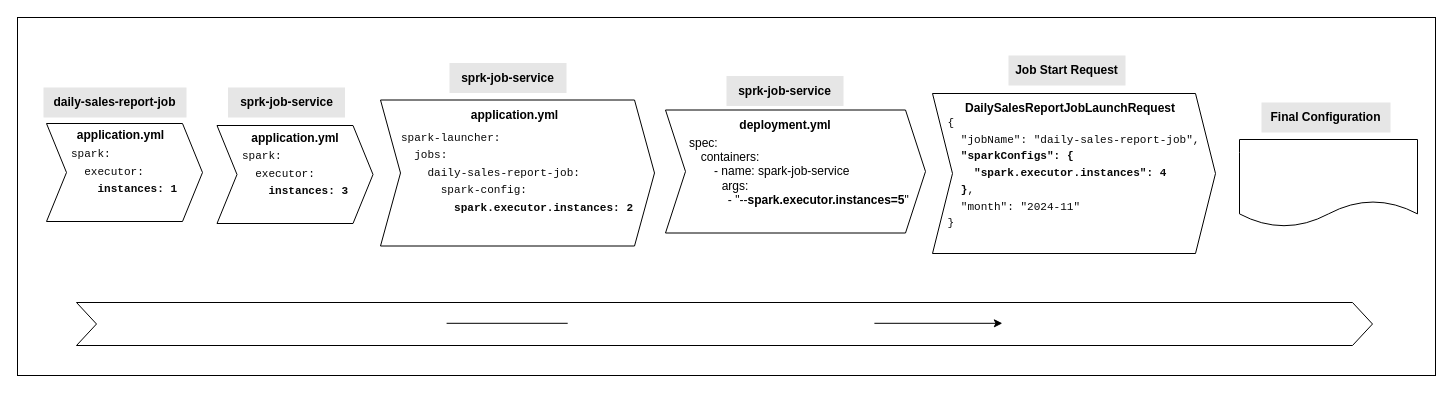
Some shapes in this 1453 by 393 pixel diagram are drawn without their labels. Here are the shapes that lost their labels. From the top down, the centre of each, then its label:
At point 1328,182: "spark.executor.instances=4".
At point 724,324: "Configurations Precedence Order".
